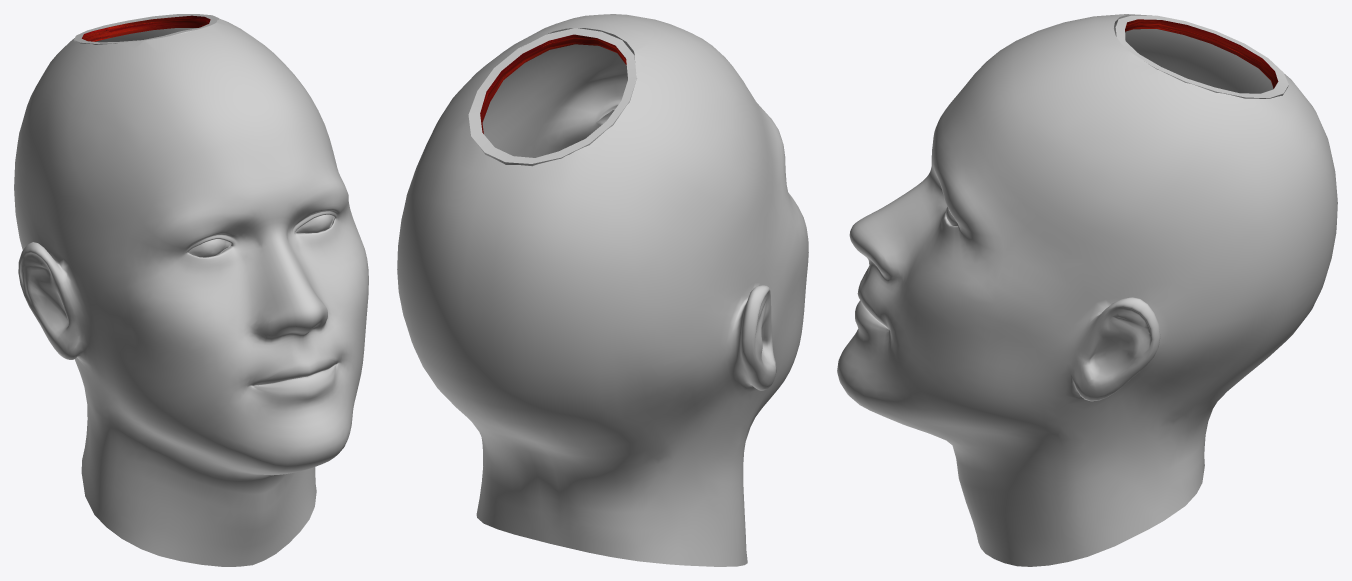
Rendered from CutHeadV2.FBX.
The picture shows the model from 3 angles, left to right: view 1: azimuth 30°, elevation 25°; view 2: azimuth 150°, elevation 25°; view 3: azimuth 270°, elevation 25°; orthographic projection. The views are drawn at different scales.
Visible parts, largest first — view 1: skin_hi001, Tube001, eyeR_hi001, eyeL_hi001; view 2: skin_hi001, Tube001; view 3: skin_hi001, Tube001.
Boxes of the visible parts, x1,y1,x2,y2 form: skin_hi001: (14, 18, 368, 566); Tube001: (74, 14, 218, 44); eyeR_hi001: (188, 239, 230, 257); eyeL_hi001: (295, 214, 334, 233); skin_hi001: (397, 14, 808, 566); Tube001: (468, 28, 636, 166); skin_hi001: (837, 14, 1337, 566); Tube001: (1114, 15, 1288, 98).
Bounding box in the file's own units: 184 × 280 × 247.
